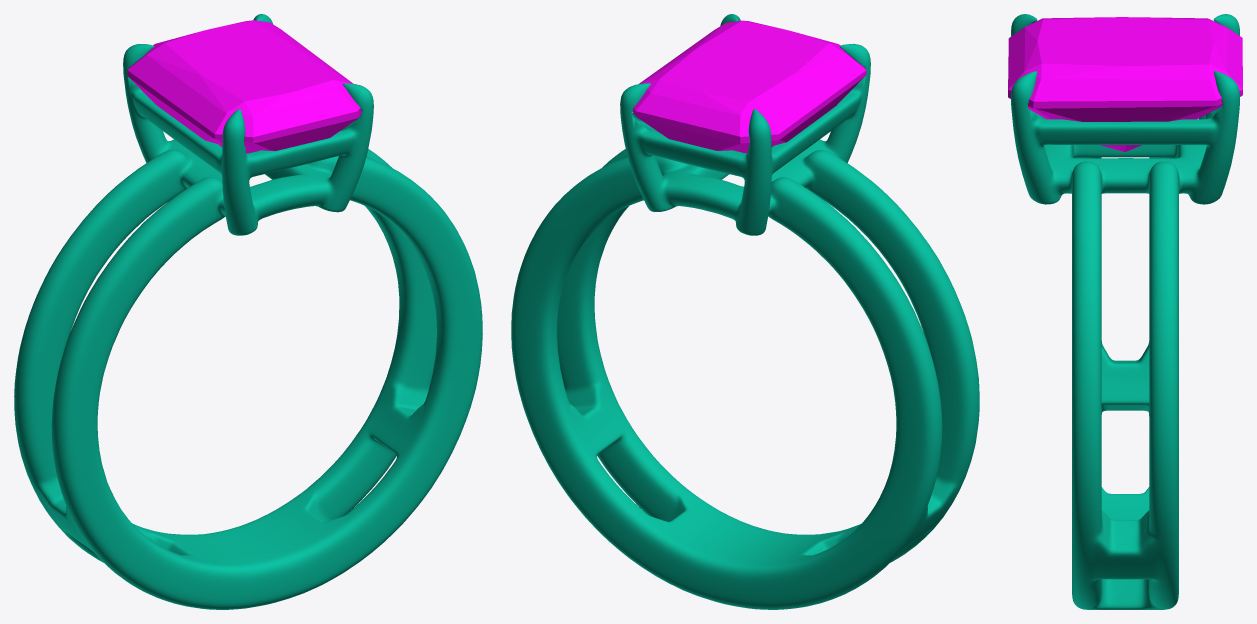
The model's file is BE14122_RA_200ct_RENDER.glb.
3 renders of one model, left to right at view 1: azimuth 30°, elevation 25°; view 2: azimuth 150°, elevation 25°; view 3: azimuth 270°, elevation 25°, orthographic. The views are drawn at different scales.
Parts seen in each view (by area): view 1: Metal 01, CS_Diamond_Radiant; view 2: Metal 01, CS_Diamond_Radiant; view 3: Metal 01, CS_Diamond_Radiant.
Boxes of the visible parts, bbox=[...] form: Metal 01: bbox=[14, 14, 482, 609]; CS_Diamond_Radiant: bbox=[127, 20, 361, 153]; Metal 01: bbox=[511, 14, 979, 609]; CS_Diamond_Radiant: bbox=[632, 20, 866, 153]; Metal 01: bbox=[1011, 14, 1239, 609]; CS_Diamond_Radiant: bbox=[1008, 17, 1242, 151].
Size of the model in its own units: 20.38 by 24.11 by 9.42.
